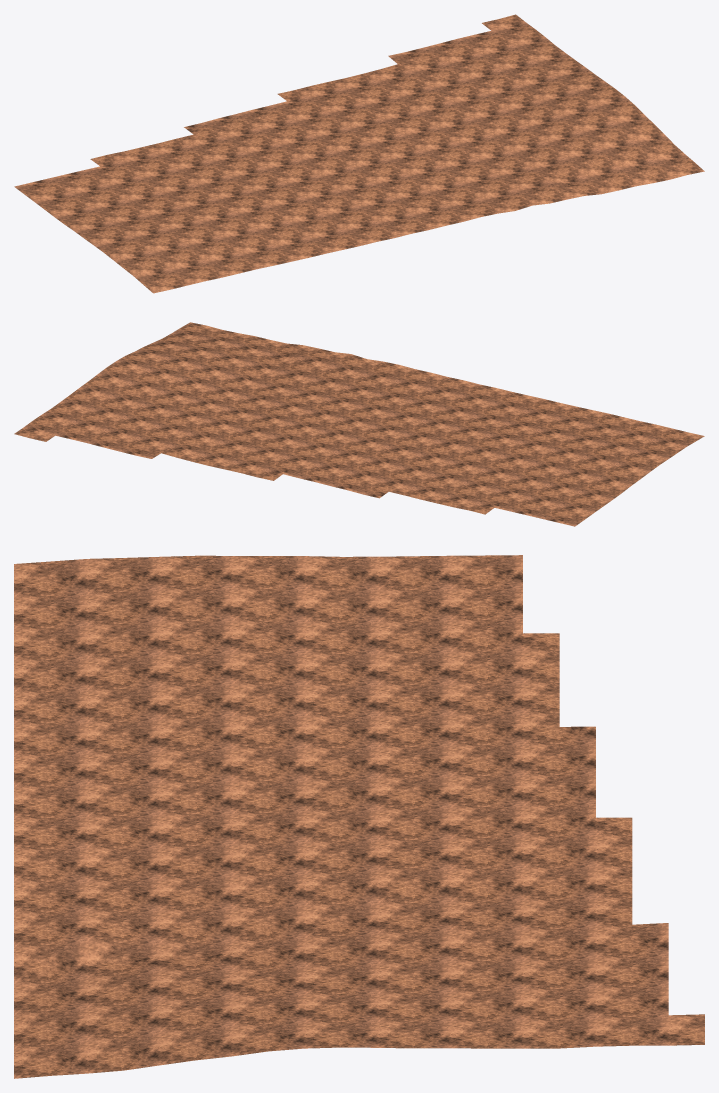
File: terrain_12_17.dae
3 views of the same model, one above another, from view 1: azimuth 30°, elevation 25°; view 2: azimuth 150°, elevation 25°; view 3: azimuth 270°, elevation 25° (orthographic). The views are drawn at different scales.
Parts seen in each view (by area): view 1: terrain_12_17-node; view 2: terrain_12_17-node; view 3: terrain_12_17-node.
Boxes of the visible parts, x1=… form: terrain_12_17-node: x1=14, y1=14, x2=704, y2=293; terrain_12_17-node: x1=14, y1=322, x2=704, y2=526; terrain_12_17-node: x1=14, y1=555, x2=704, y2=1078.
Size of the model in its own units: 128 by 76 by 4.13.
1 material, 1 textured.
